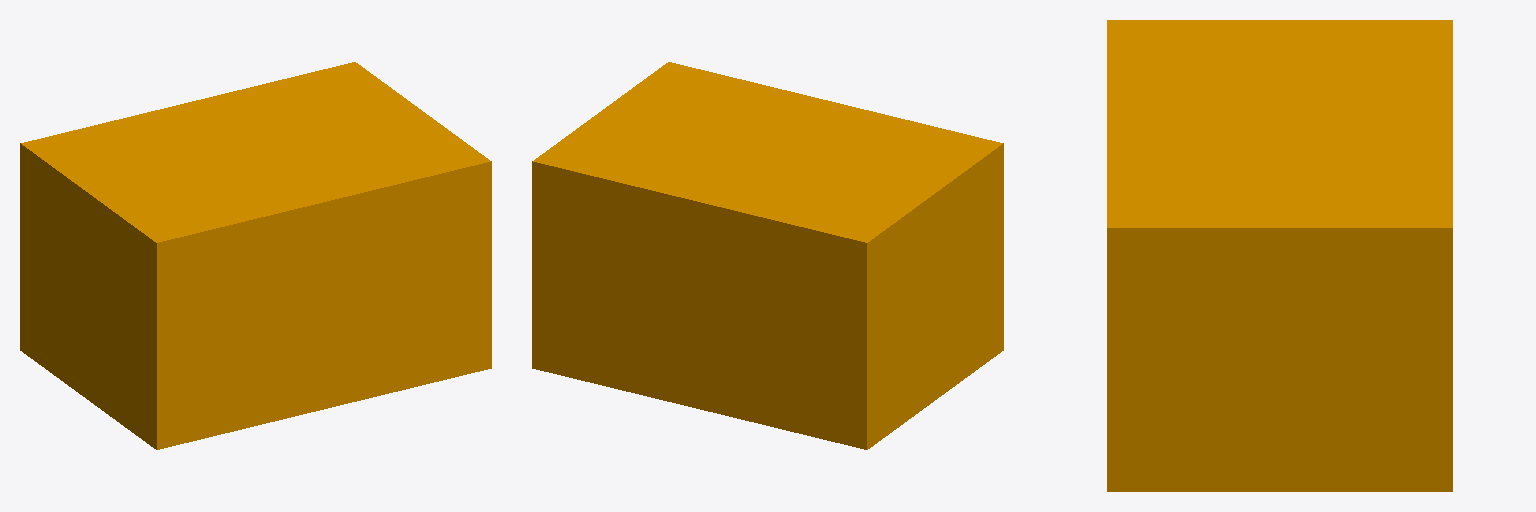
The robot description file, URDF, robot "object":
<?xml version="1.0"?>
<!-- Auto-generated by tools/gen_primitive_objects.py. kind=box dims=(0.091608, 0.0645, 0.054158) -->
<robot name="object">
  <link name="object">
    <visual>
      <origin xyz="0 0 0"/>
      <geometry>
        <box size="0.091608 0.064500 0.054158"/>
      </geometry>
    </visual>
    <collision>
      <origin xyz="0 0 0"/>
      <geometry>
        <box size="0.091608 0.064500 0.054158"/>
      </geometry>
    </collision>
    <inertial>
      <mass value="0.064001"/>
      <inertia ixx="0.00003783" ixy="0.0" ixz="0.0" iyy="0.00006040" iyz="0.0" izz="0.00006695"/>
    </inertial>
  </link>
</robot>

--- Facts derived from the render (not from the file) ---
3 views of the same robot in one strip: view 1: azimuth 30°, elevation 25°; view 2: azimuth 150°, elevation 25°; view 3: azimuth 270°, elevation 25° (orthographic).
Robot: object — 1 links, 0 joints (none); root link object; default pose: every joint at zero.
Links seen in each view (by area): view 1: object; view 2: object; view 3: object.
Link boxes in pixels (bbox=[...]): object: bbox=[20, 62, 491, 449]; object: bbox=[532, 62, 1003, 449]; object: bbox=[1107, 20, 1452, 491].
Bounding box of the posed robot: 0.0916 × 0.0645 × 0.0542 m (x, y, z).
Geometry: primitives only (box / cylinder / sphere), no mesh files.
